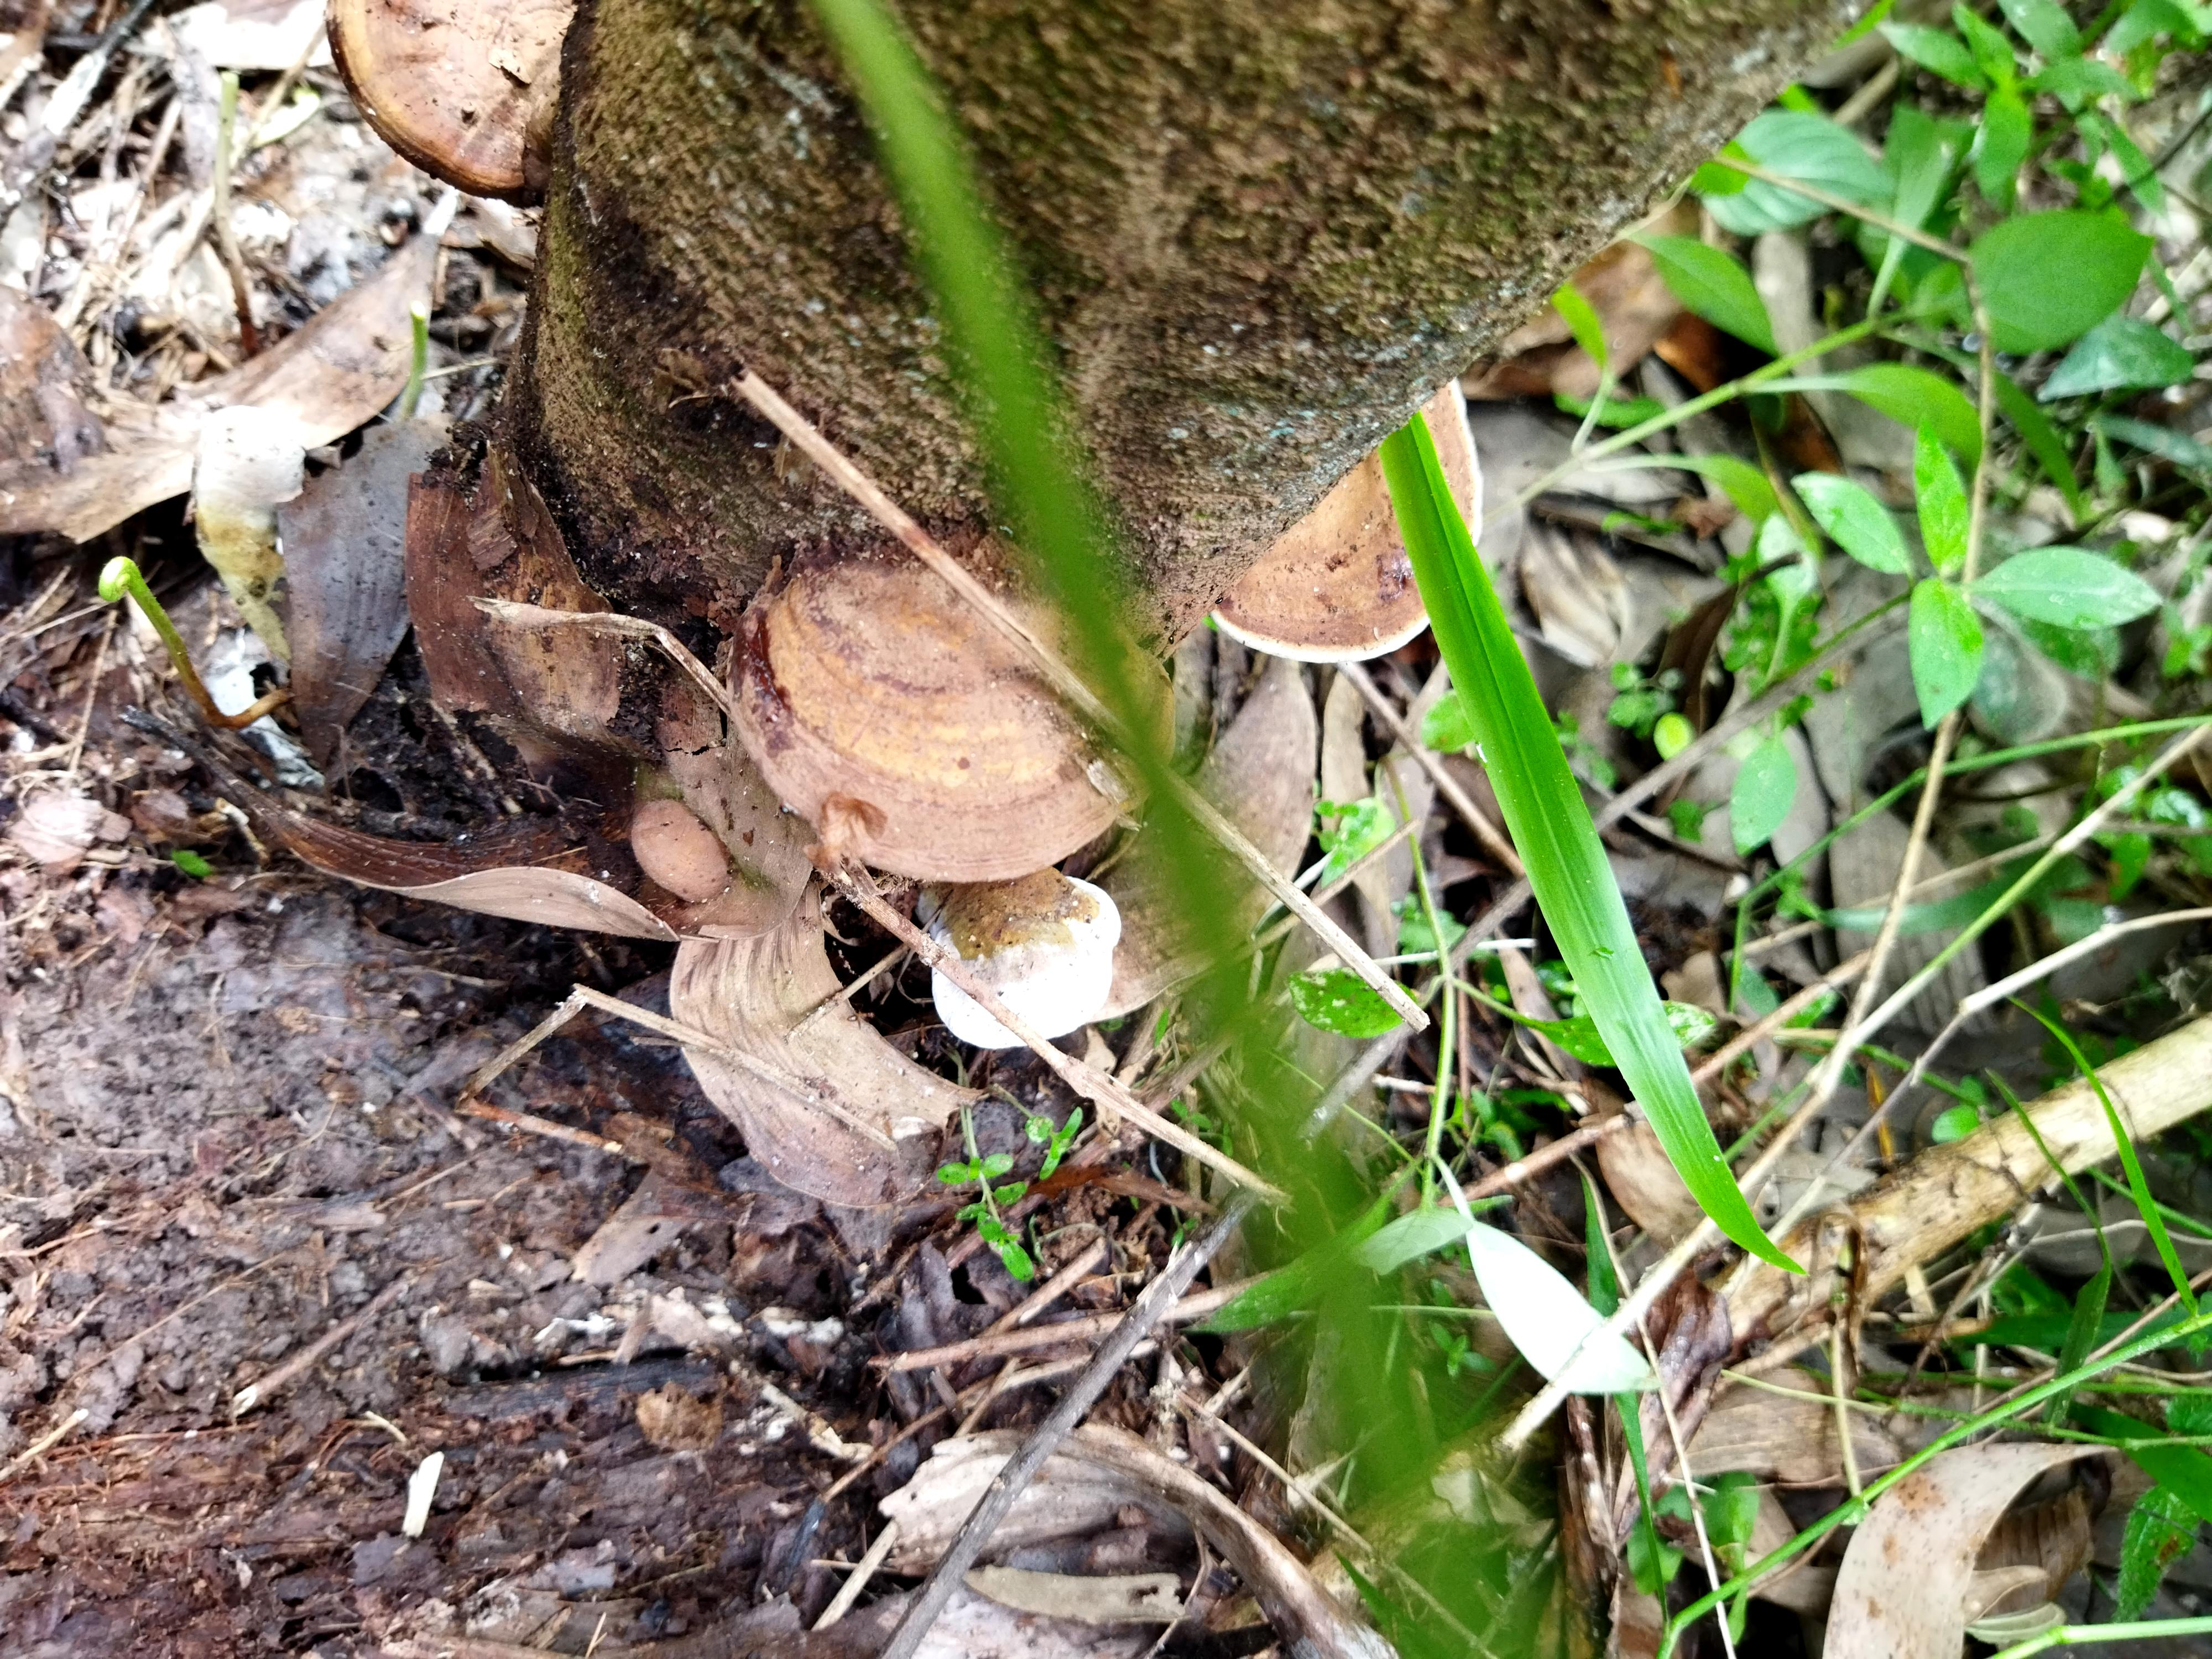Ganoderma - Fruit Body: (737, 582, 1181, 887), (1202, 383, 1477, 652), (333, 0, 587, 200), (902, 903, 1113, 1068)
